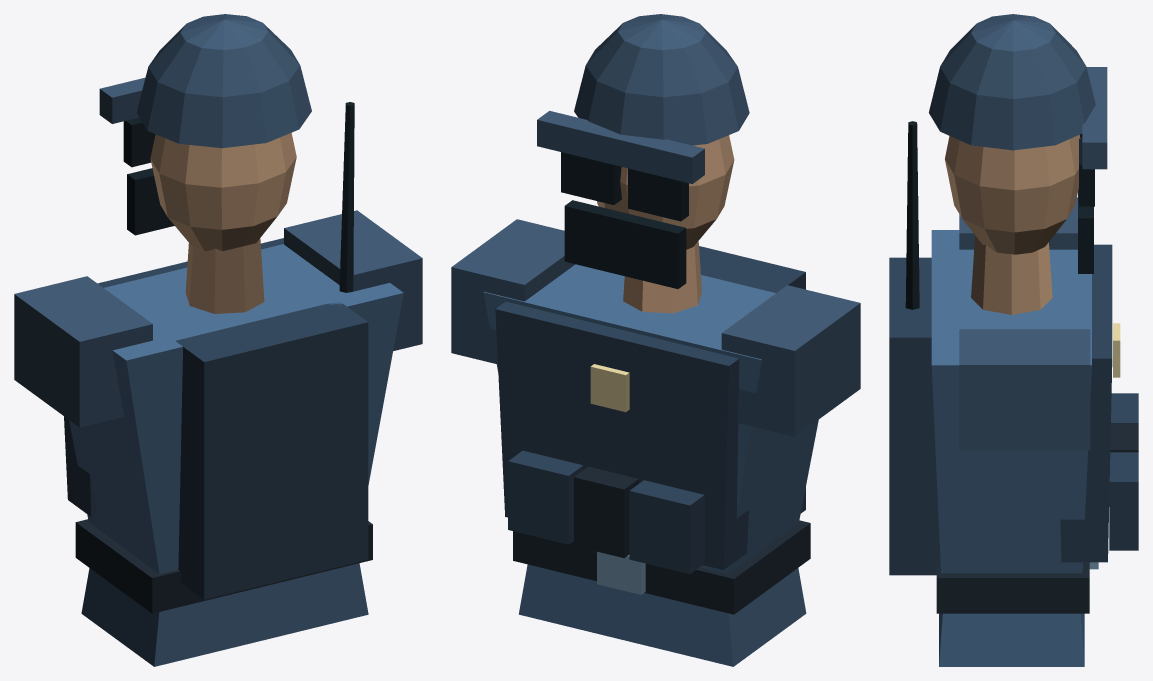
File: counter_terrorist_torso.obj
3 views of the same model, side by side, from view 1: azimuth 30°, elevation 25°; view 2: azimuth 150°, elevation 25°; view 3: azimuth 270°, elevation 25° (orthographic).
Parts seen in each view (by area): view 1: counter_terrorist_torso; view 2: counter_terrorist_torso; view 3: counter_terrorist_torso.
Part boxes in pixels (x1,y1,x2,y2): counter_terrorist_torso: (14,14,422,666); counter_terrorist_torso: (451,14,860,666); counter_terrorist_torso: (889,14,1138,666).
Size of the model in its own units: 27.2 by 45 by 17.1.
Materials: 1 (1 with a texture image).
